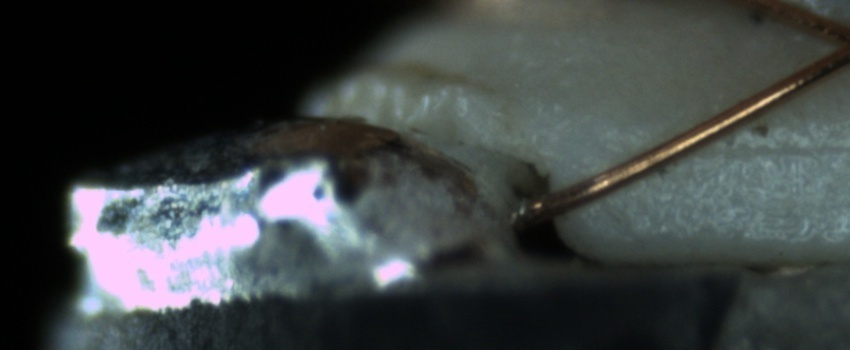CL: (804, 10, 850, 80)
DL: (690, 116, 847, 186)
